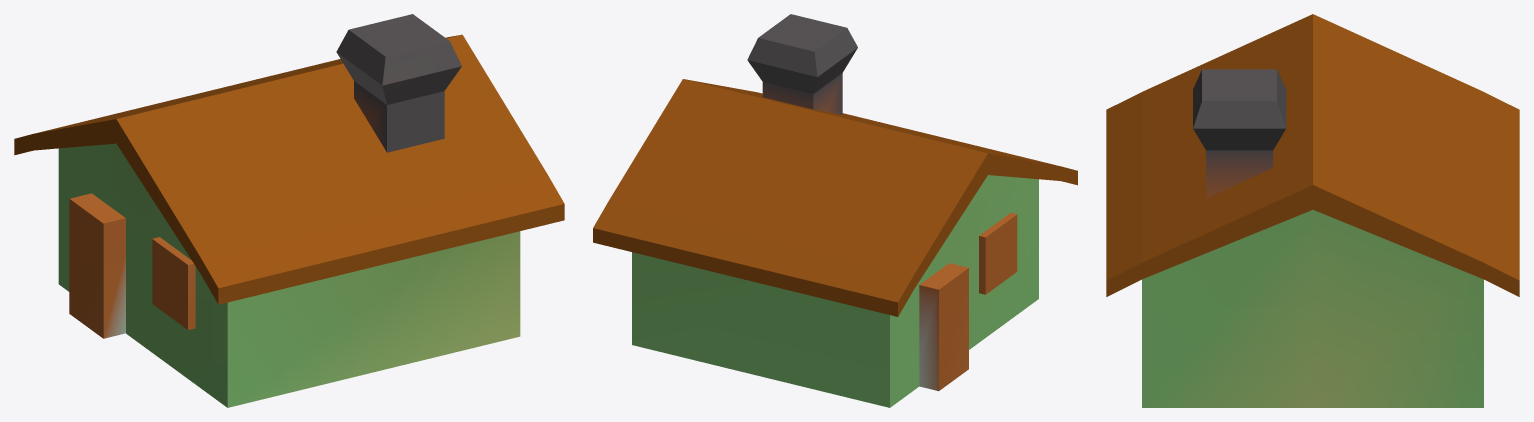
File: Talo1_mod.fbx
3 renders of one model, left to right at view 1: azimuth 30°, elevation 25°; view 2: azimuth 150°, elevation 25°; view 3: azimuth 270°, elevation 25°, orthographic. The views are drawn at different scales.
Visible parts, largest first — view 1: Talo1; view 2: Talo1; view 3: Talo1.
Boxes of the visible parts, box(x1,y1,x2,y2) form: Talo1: box(14, 14, 564, 407); Talo1: box(593, 14, 1077, 407); Talo1: box(1106, 14, 1519, 407).
Size of the model in its own units: 450 by 352 by 459.
